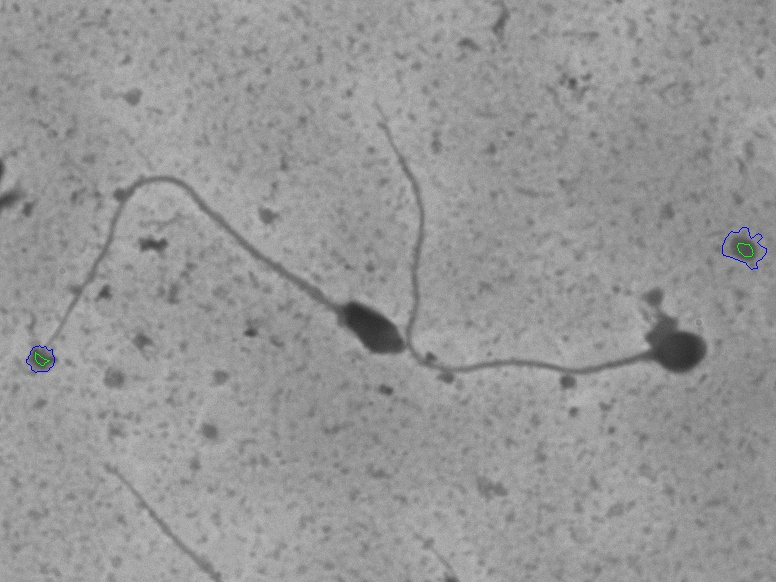Abnormal: (31, 153, 411, 369)
Normal: (360, 94, 716, 386)
